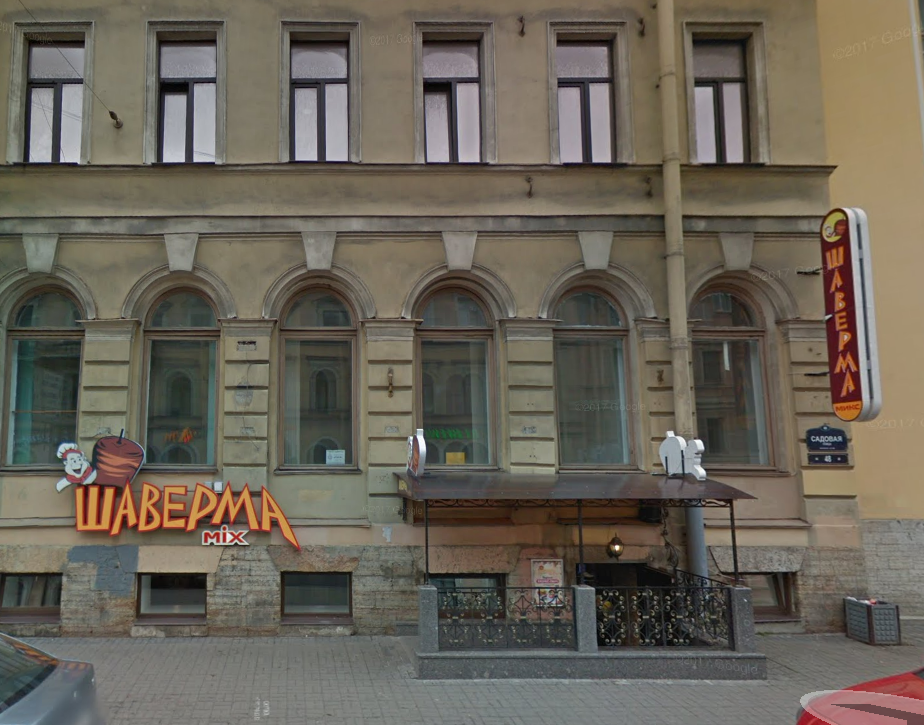cantilever: (788, 201, 887, 431)
signboard: (40, 412, 306, 559)
window: (551, 335, 635, 473), (689, 333, 772, 468), (273, 333, 350, 470), (419, 336, 493, 468), (147, 332, 216, 468), (15, 327, 78, 465), (557, 31, 618, 163), (155, 33, 216, 163), (288, 36, 350, 162), (421, 36, 483, 161), (688, 35, 745, 164), (30, 42, 83, 162)
